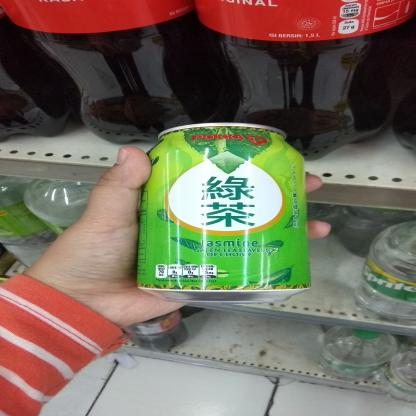mouse: (130, 121, 320, 308)
